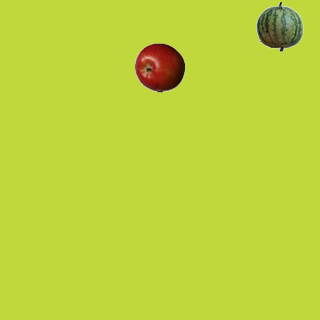Apple Braeburn: (134, 42, 184, 92)
Watermelon: (254, 1, 304, 51)
